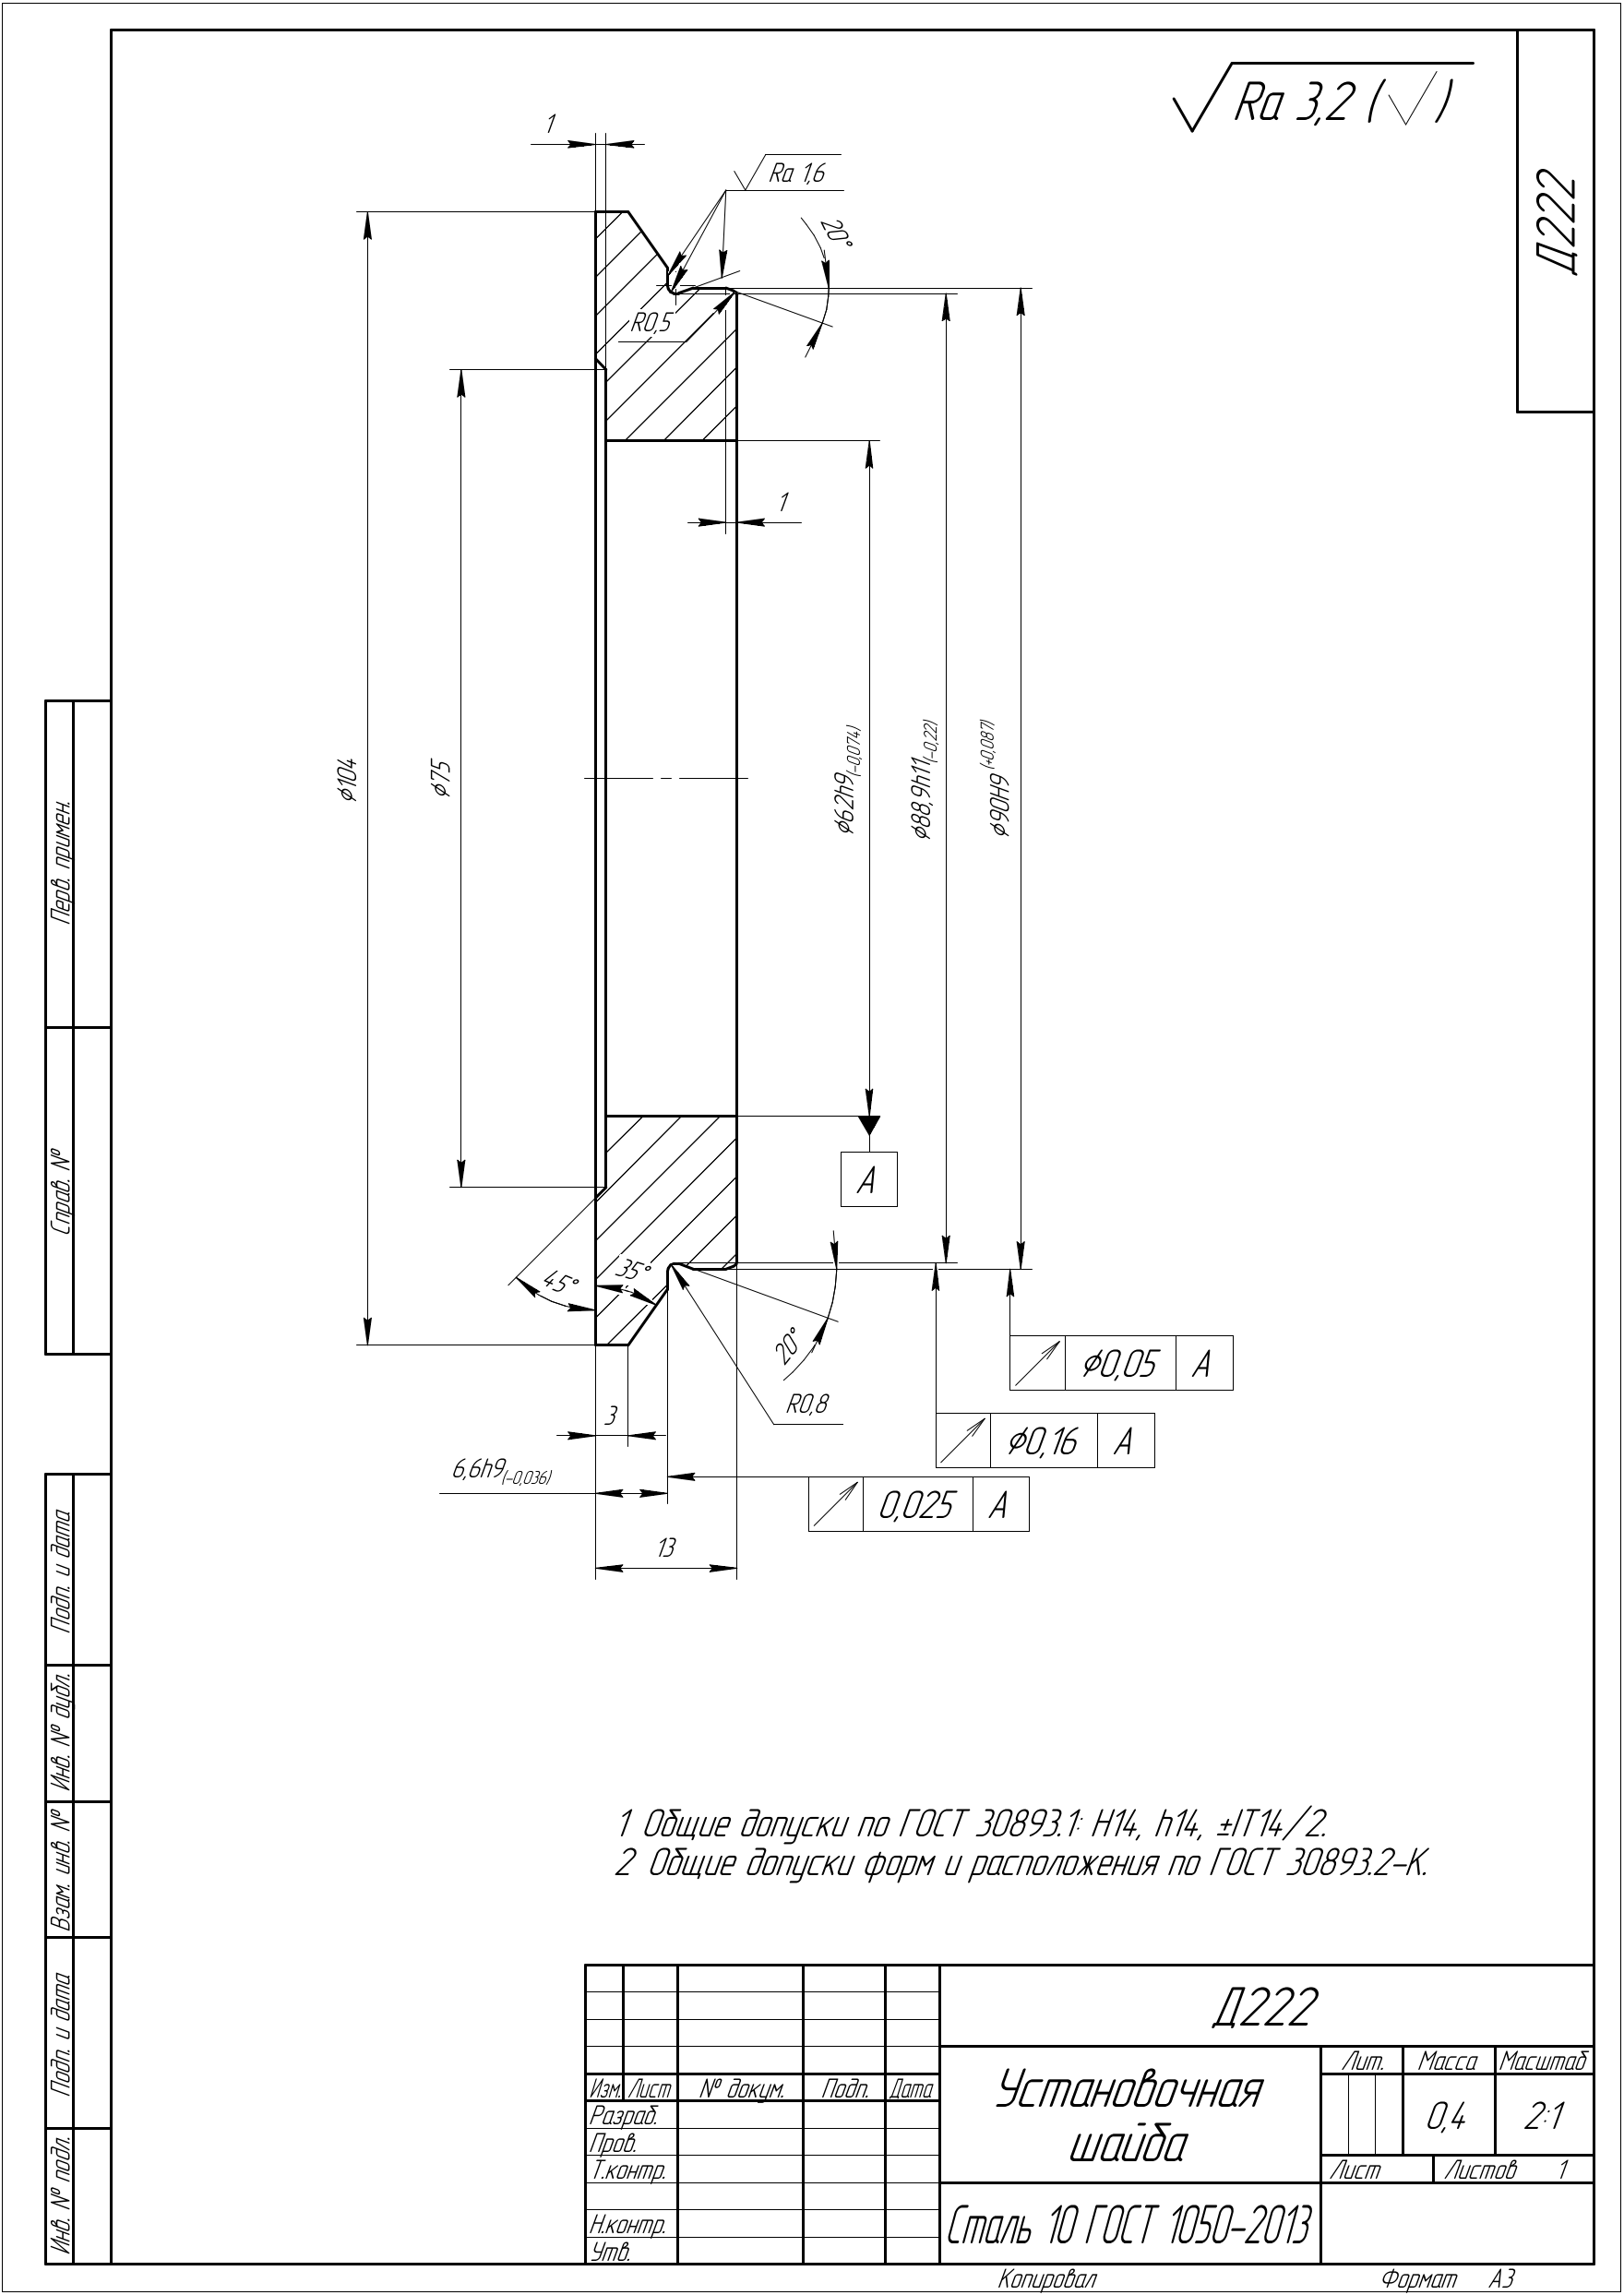Диаметральный размер: (316, 207, 376, 1351), (900, 290, 960, 1269), (975, 285, 1033, 1272), (422, 364, 468, 1197), (830, 434, 882, 1123), (415, 750, 459, 803), (327, 752, 362, 805)
Линейный размер: (429, 1444, 675, 1504), (585, 1524, 742, 1583), (673, 481, 819, 541), (515, 102, 656, 156), (555, 1399, 670, 1439)
Общая шероховатость: (1165, 49, 1494, 142)
Технические требования: (605, 1789, 1445, 1893)
Угловой размер: (763, 1227, 856, 1390), (504, 1183, 606, 1323), (784, 206, 856, 366), (503, 1253, 601, 1316), (594, 1249, 670, 1314)
Шероховатость: (724, 146, 854, 195)
